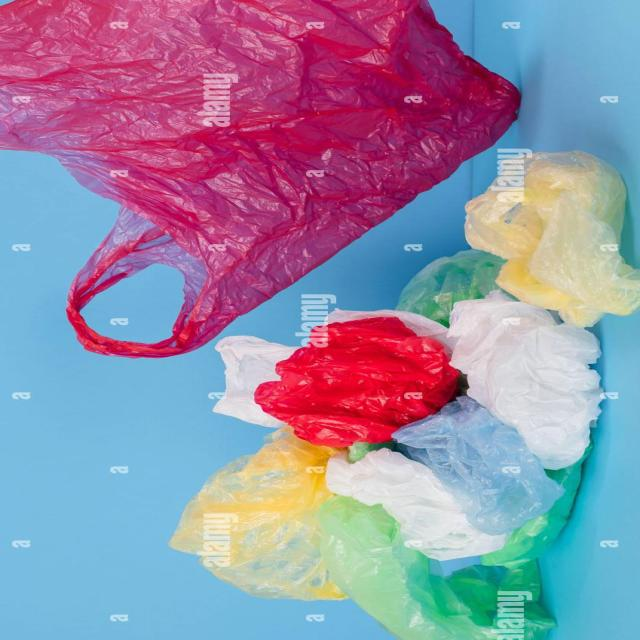Single-layer Plastic: (2, 0, 519, 358), (319, 460, 581, 640), (466, 151, 639, 326), (170, 428, 345, 600), (448, 291, 601, 470), (254, 318, 460, 447), (395, 396, 563, 535), (326, 449, 509, 559), (398, 249, 506, 327), (214, 336, 298, 427)
